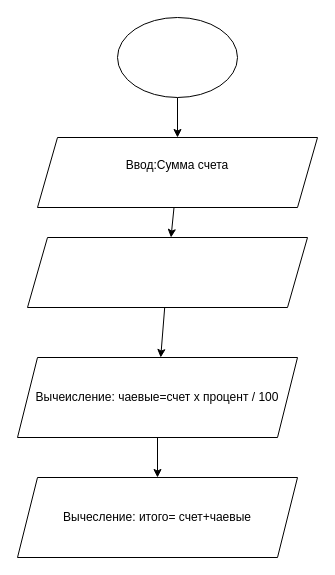
Image size: 335x575. Some labels were removed from this diagram. The shapes that lost their labels are listed below. From the top down, each one's box as (x1, y1, x2, y2) in pixels, then its label:
(116, 16, 238, 98): Начало
(26, 236, 308, 308): Ввод: процент чаевых
